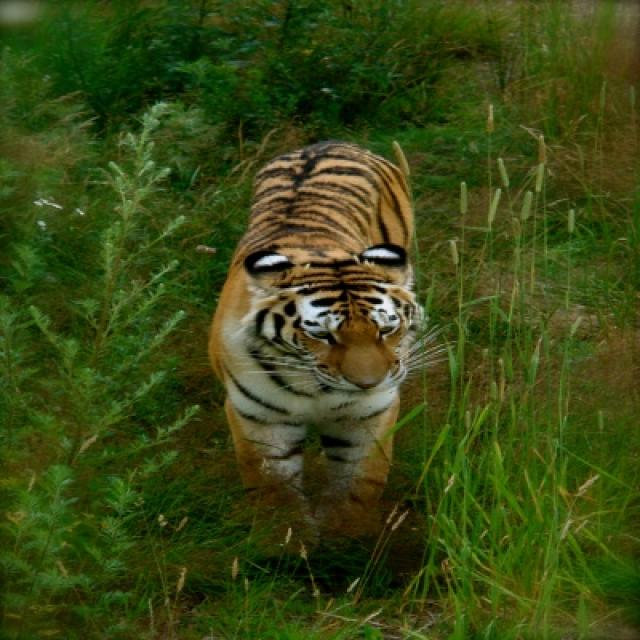Tiger: (207, 147, 419, 556)
